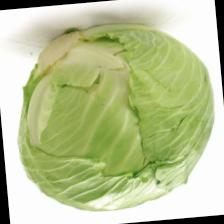cabbage: (5, 14, 223, 220)
